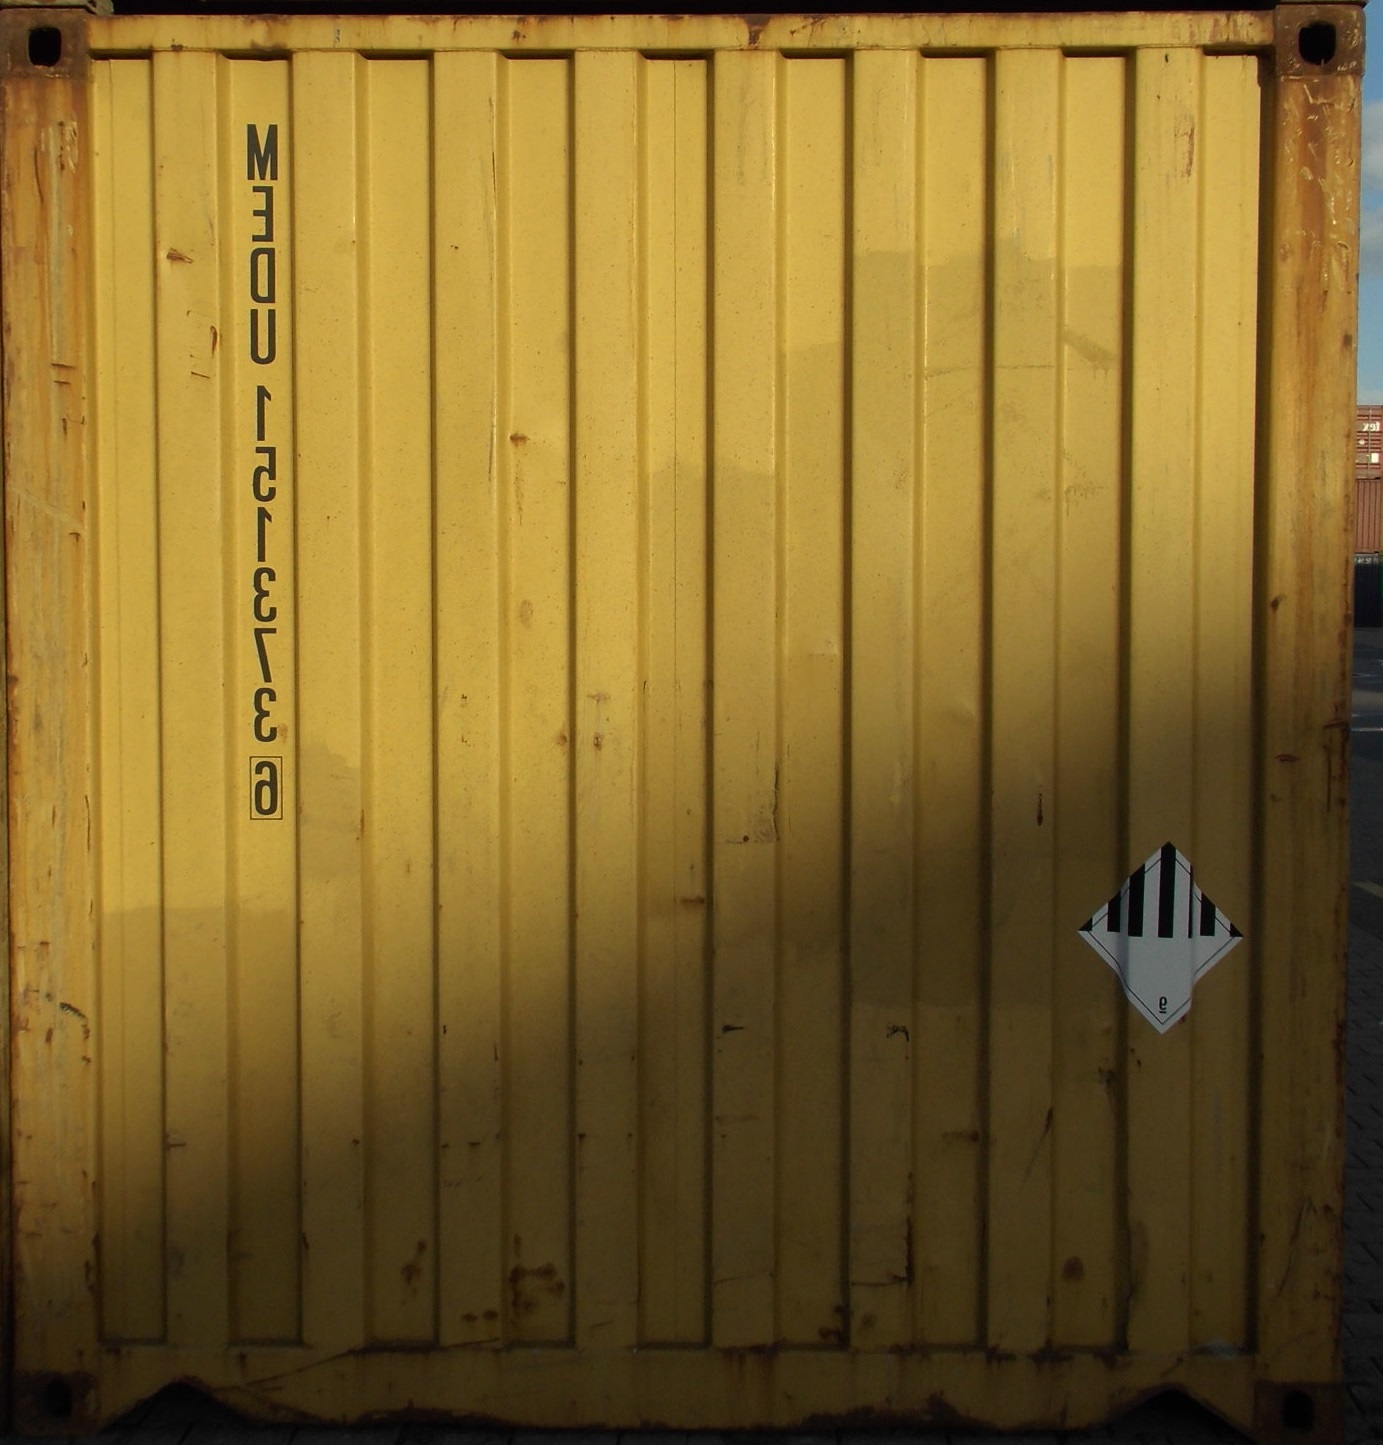container_no_door: (1, 6, 1334, 1427)
